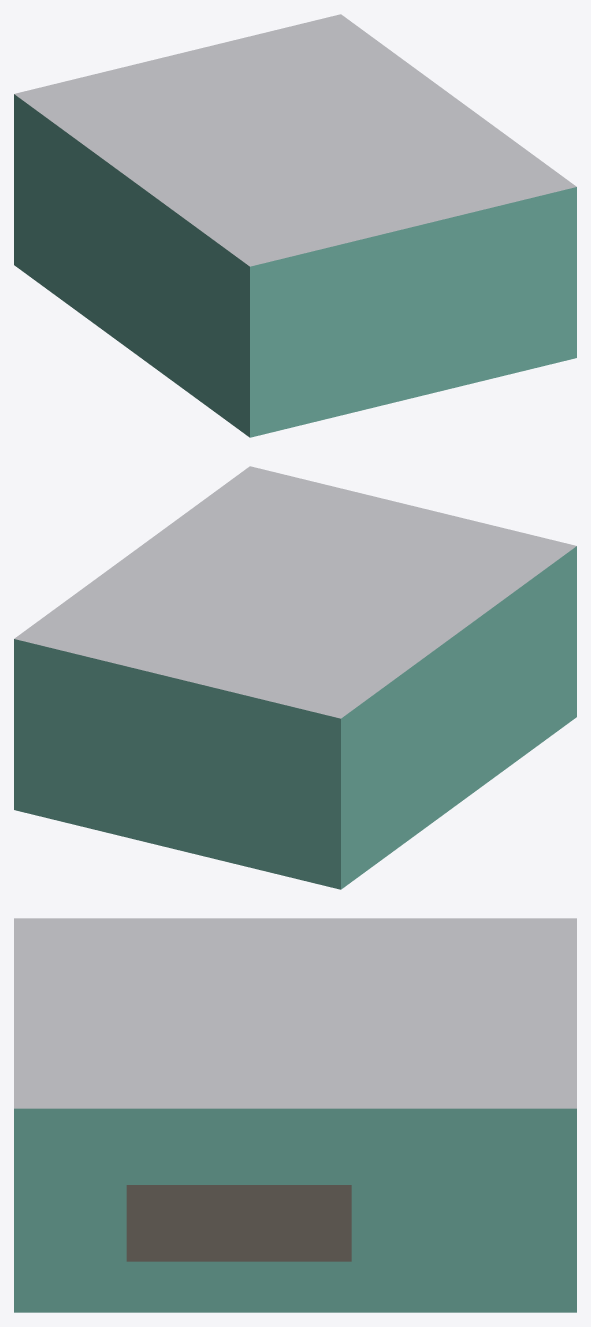
Rendered from level_fps_F.obj.
3 renders of one model, top to bottom at view 1: azimuth 30°, elevation 25°; view 2: azimuth 150°, elevation 25°; view 3: azimuth 270°, elevation 25°, orthographic. The views are drawn at different scales.
Visible parts, largest first — view 1: F_annex; view 2: F_annex; view 3: F_annex.
Boxes of the visible parts, left/top/right/bottom form: F_annex: left=14, top=14, right=576, bottom=437; F_annex: left=14, top=466, right=576, bottom=889; F_annex: left=14, top=918, right=576, bottom=1312.
Bounding box in the file's own units: 8 × 4 × 10.
